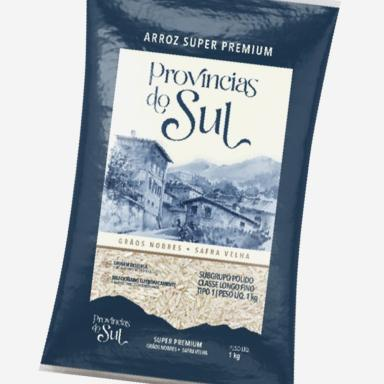rice package: (42, 0, 338, 383)
